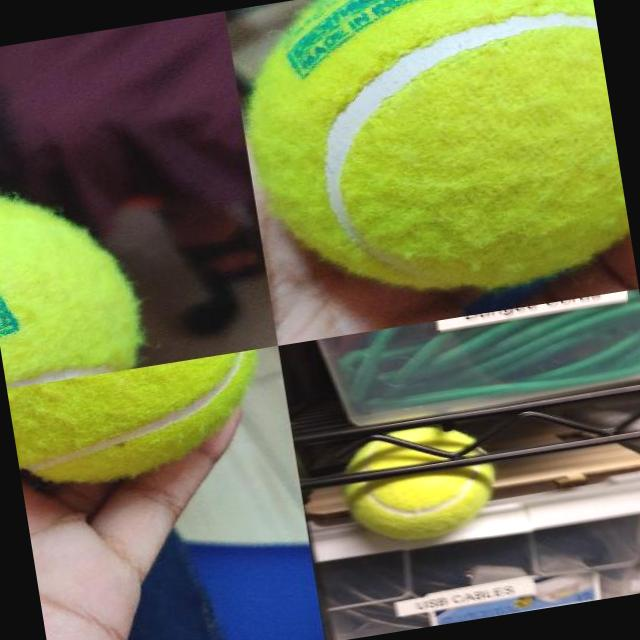tennis-ball: (230, 0, 633, 318), (7, 349, 274, 494), (0, 164, 145, 387), (337, 418, 506, 552)
